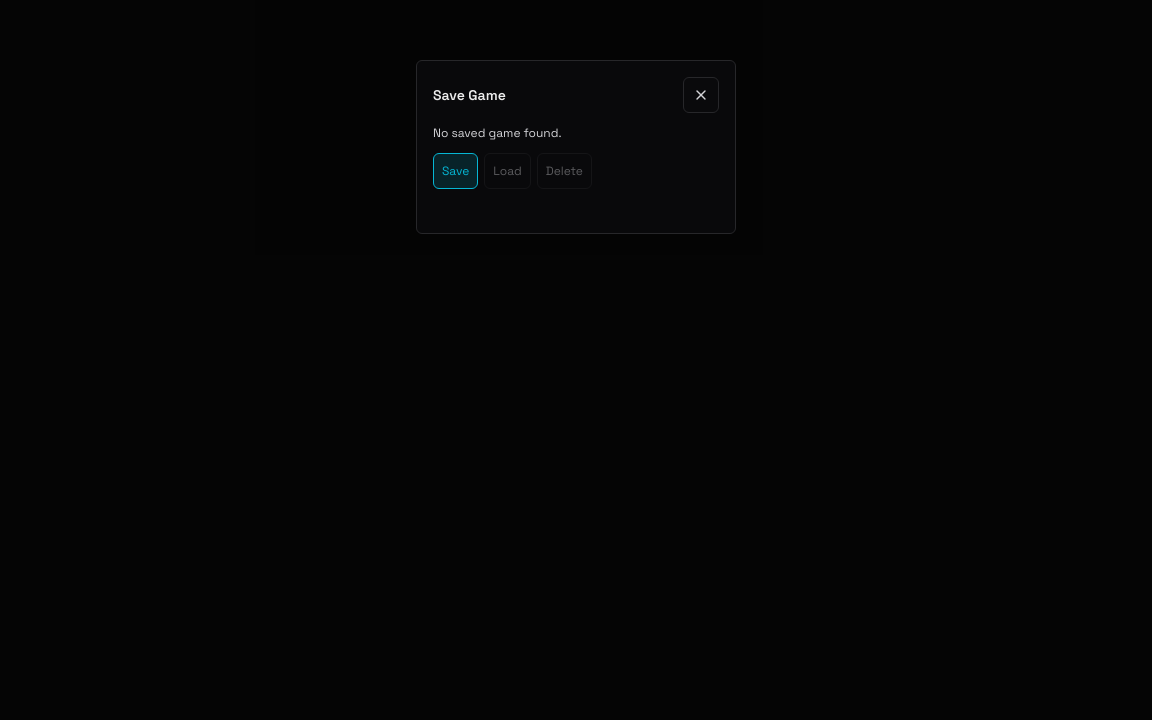
Test: SaveMenu › says the slot is empty, saves the run, and names what it holds
Expected: the dialog "Save Game" shows "No saved game found.", [433,125,562,141]
Expected: the button "Load" is disabled, [484,153,531,189]
Click the button "Save": x=456, y=171 [433,153,478,189]
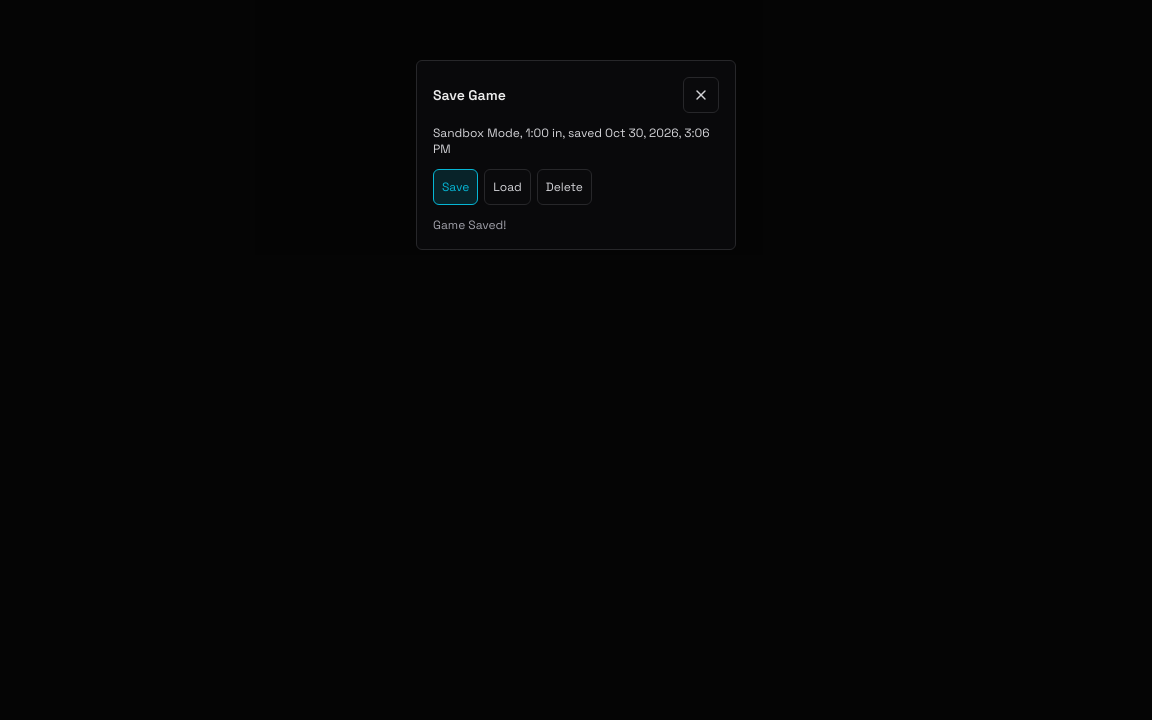
Result: the message reads "Game Saved!" at [433,217,506,233]
Result: the dialog "Save Game" shows "Sandbox Mode, 1:00 in, saved" at [433,125,710,157]
Result: the button "Load" is enabled at [484,169,531,205]
